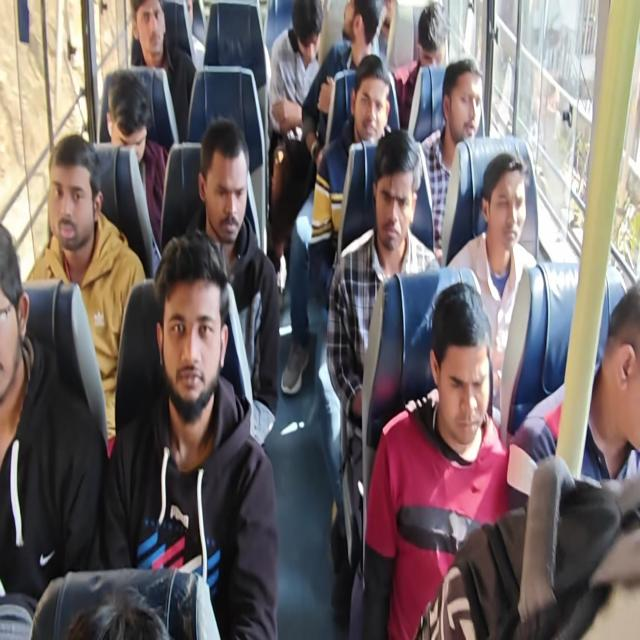person: (1, 1, 638, 638), (102, 229, 279, 638), (326, 127, 442, 634), (361, 281, 510, 638), (0, 222, 108, 638), (414, 454, 639, 638), (23, 133, 146, 456), (184, 117, 280, 447), (510, 281, 639, 483), (446, 151, 538, 418), (308, 54, 392, 304), (267, 0, 323, 245), (418, 56, 484, 260), (301, 0, 382, 164), (103, 70, 169, 252), (128, 0, 196, 144), (392, 1, 449, 130), (67, 583, 171, 639)
